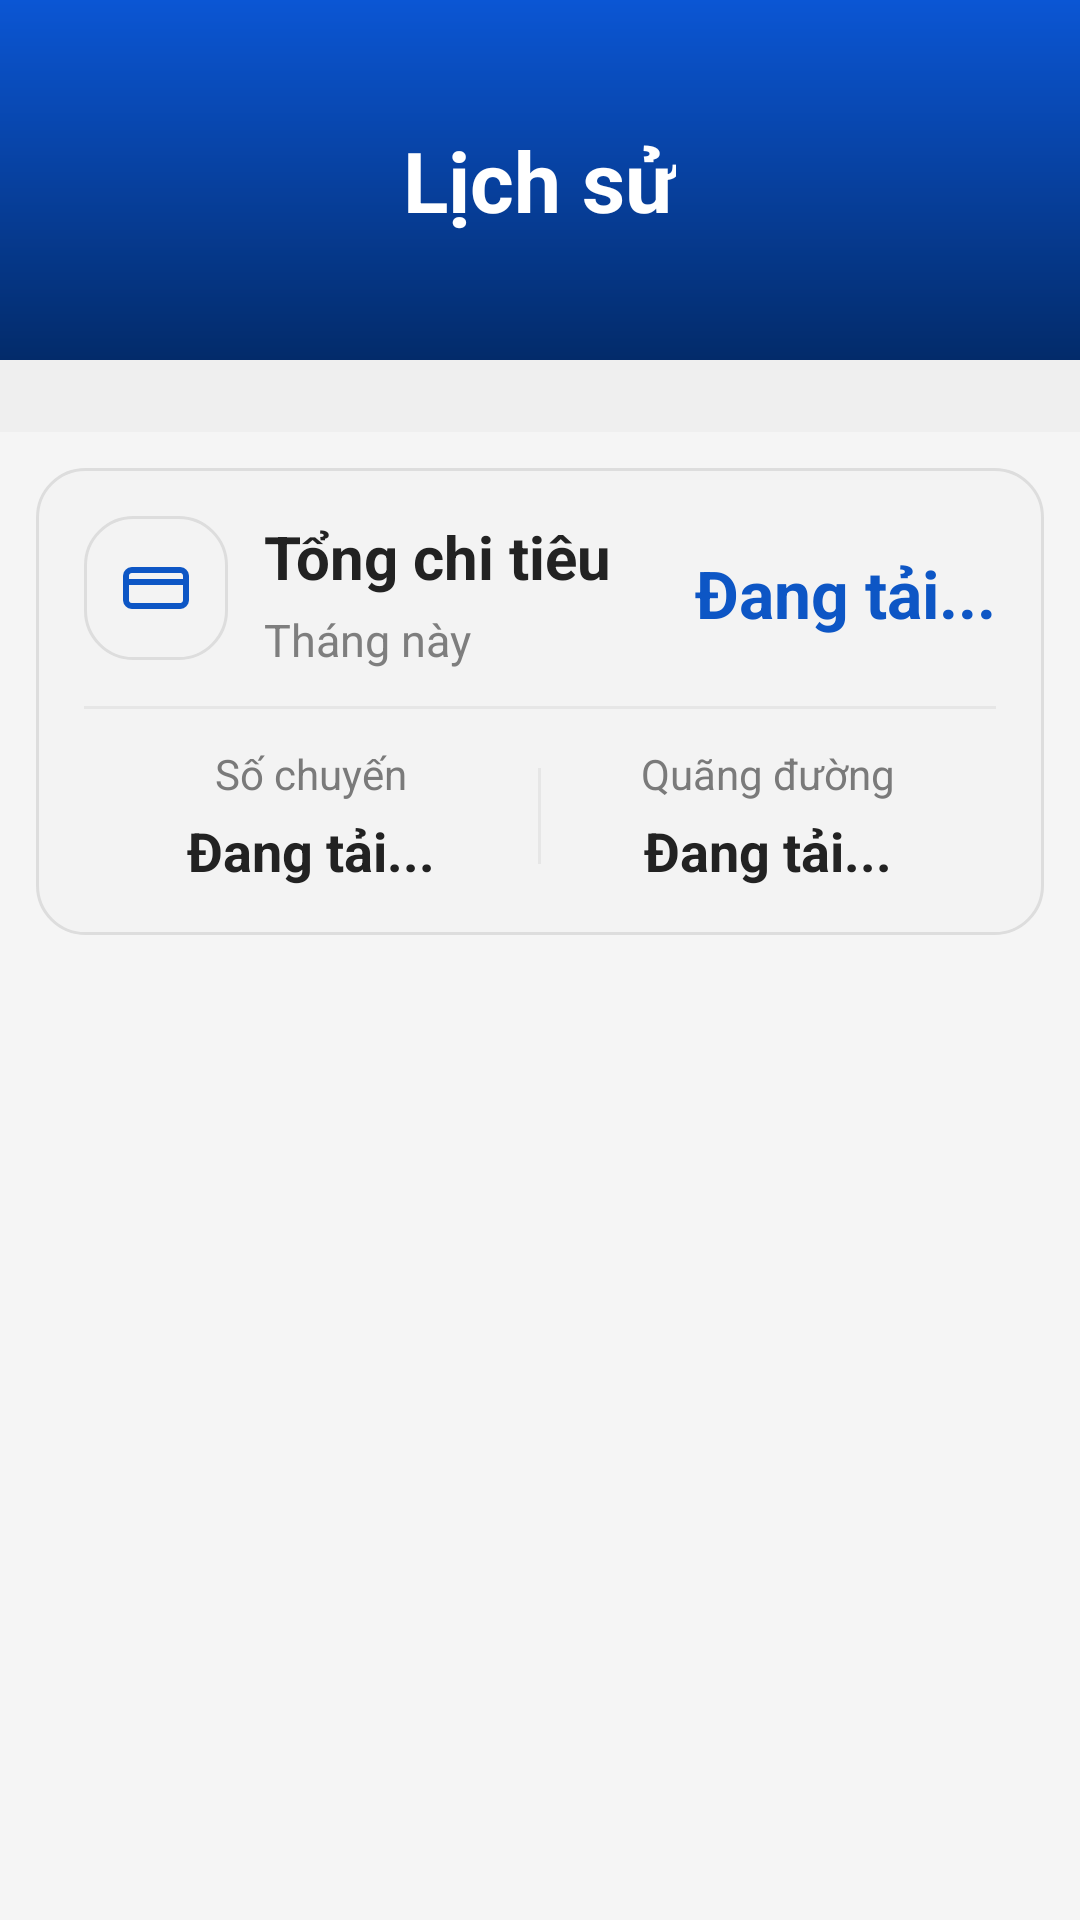

Screen size 1080px x 1920px. Icon name, then its box in pixels as BBox(x1, y1, x2, y2):
card: BBox(123, 567, 189, 609)
